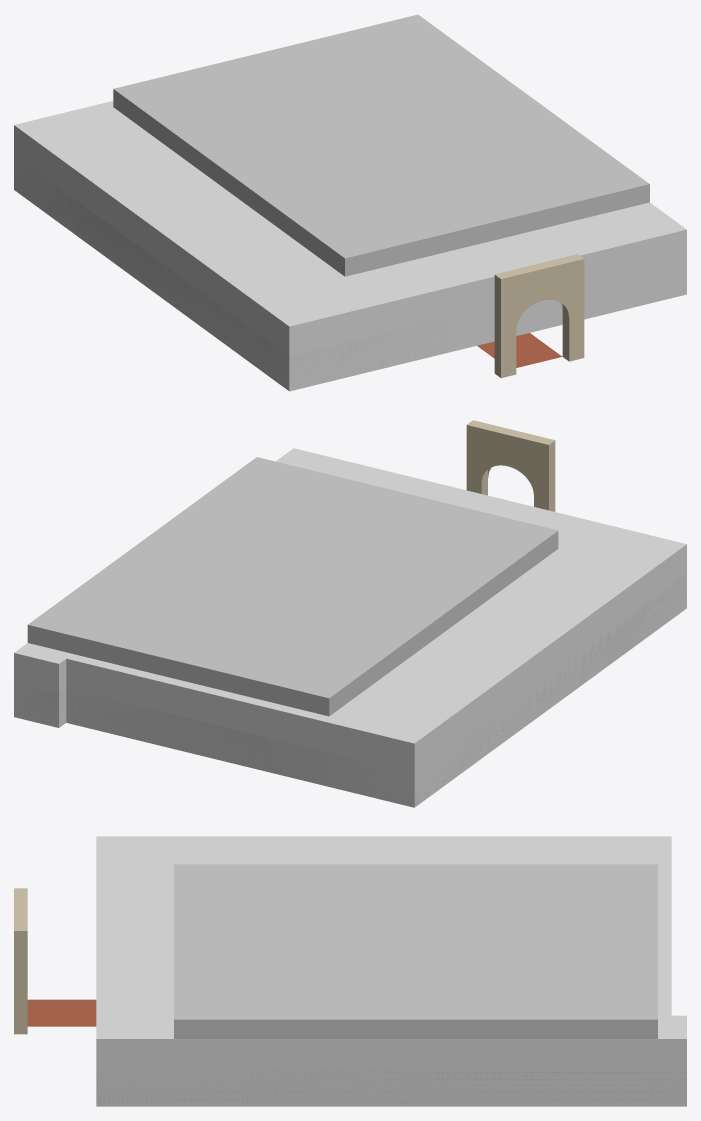
The model's file is P2-A-901_RevA_massing.obj.
3 views of the same model, one above another, from view 1: azimuth 30°, elevation 25°; view 2: azimuth 150°, elevation 25°; view 3: azimuth 270°, elevation 25° (orthographic). The views are drawn at different scales.
Visible parts, largest first — view 1: exterior_arena_volume, exterior_building_ring, cutaway_ring_cut_0, exterior_portal_spandrel, exterior_portal_pier_w, exterior_portal_pier_e, exterior_ground_walk_0; view 2: exterior_arena_volume, exterior_building_ring, cutaway_ring_cut_1, cutaway_ring_cut_0, exterior_ne_stair_tower, exterior_portal_spandrel, exterior_portal_pier_w, exterior_portal_pier_e, cutaway_ne_stair_tower_cut; view 3: exterior_arena_volume, exterior_building_ring, cutaway_ring_cut_2, exterior_ground_walk_0, exterior_portal_pier_e, exterior_ne_stair_tower, cutaway_ring_cut_1.
Part boxes in pixels (x1,y1,x2,y2): exterior_arena_volume: (113, 14, 649, 276); exterior_building_ring: (14, 101, 686, 391); cutaway_ring_cut_0: (14, 157, 395, 391); exterior_portal_spandrel: (510, 258, 569, 328); exterior_portal_pier_w: (494, 271, 516, 378); exterior_portal_pier_e: (562, 254, 584, 361); exterior_ground_walk_0: (477, 333, 562, 367); exterior_arena_volume: (27, 457, 558, 716); exterior_building_ring: (21, 448, 686, 807); cutaway_ring_cut_1: (66, 688, 309, 781); cutaway_ring_cut_0: (309, 574, 686, 807); exterior_ne_stair_tower: (14, 647, 66, 727); exterior_portal_spandrel: (481, 424, 539, 494); exterior_portal_pier_w: (534, 436, 555, 511); exterior_portal_pier_e: (466, 420, 487, 495); cutaway_ne_stair_tower_cut: (14, 682, 65, 727); exterior_arena_volume: (174, 864, 657, 1038); exterior_building_ring: (96, 836, 671, 1106); cutaway_ring_cut_2: (96, 1070, 641, 1106); exterior_ground_walk_0: (27, 999, 96, 1026); exterior_portal_pier_e: (14, 923, 27, 1034); exterior_ne_stair_tower: (671, 1015, 686, 1106); cutaway_ring_cut_1: (642, 1071, 671, 1106).
Bounding box in the file's own units: 210 × 50 × 295.
